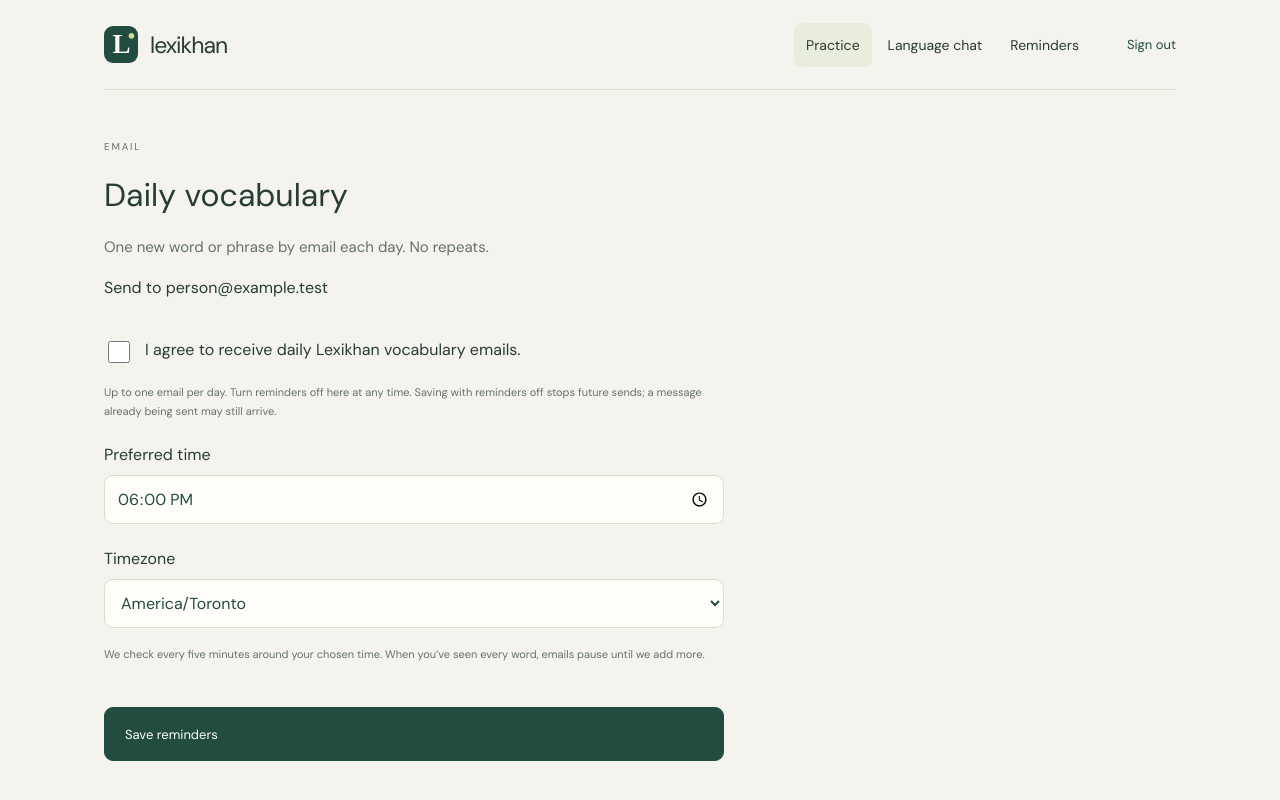
Test: saves explicit consent and can turn reminders off
Click the checkbox at (119, 352), box [108,341,130,363]
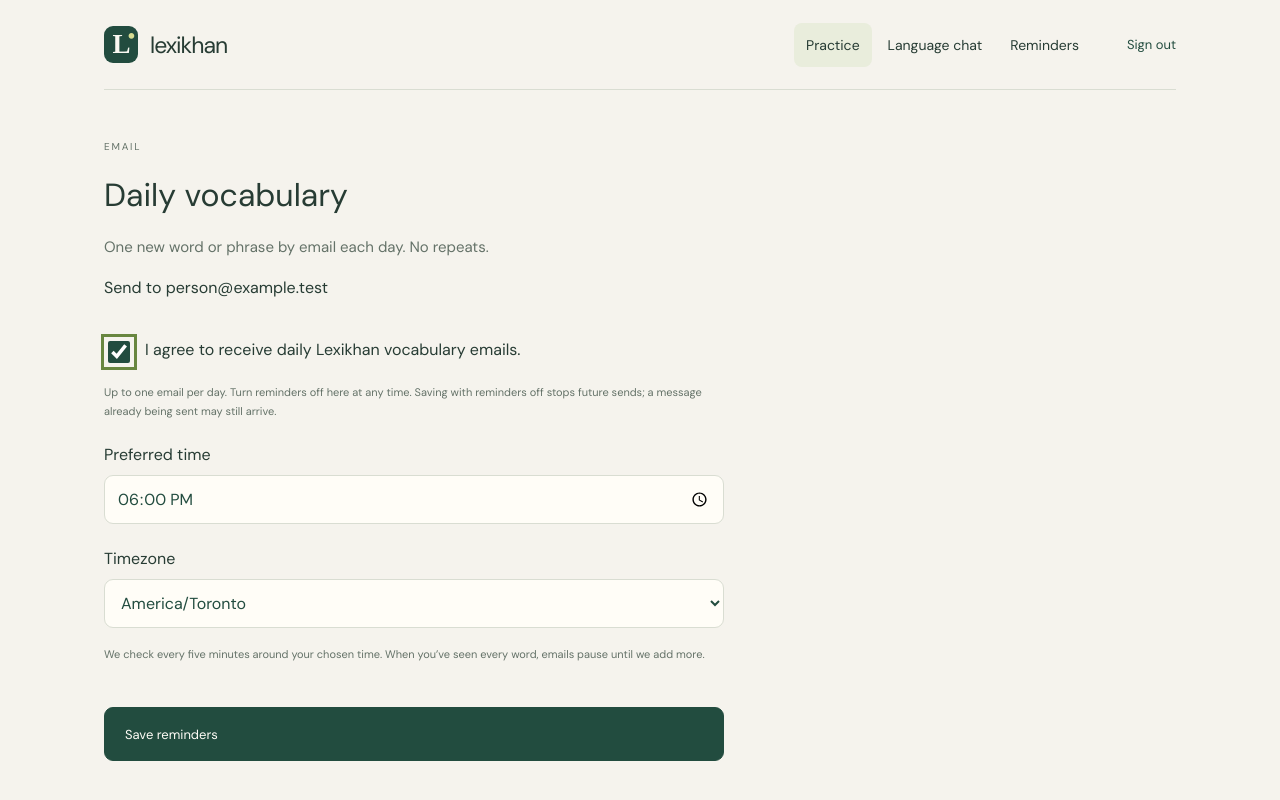
Click the button "Save reminders" at (171, 734), box [104,707,724,761]
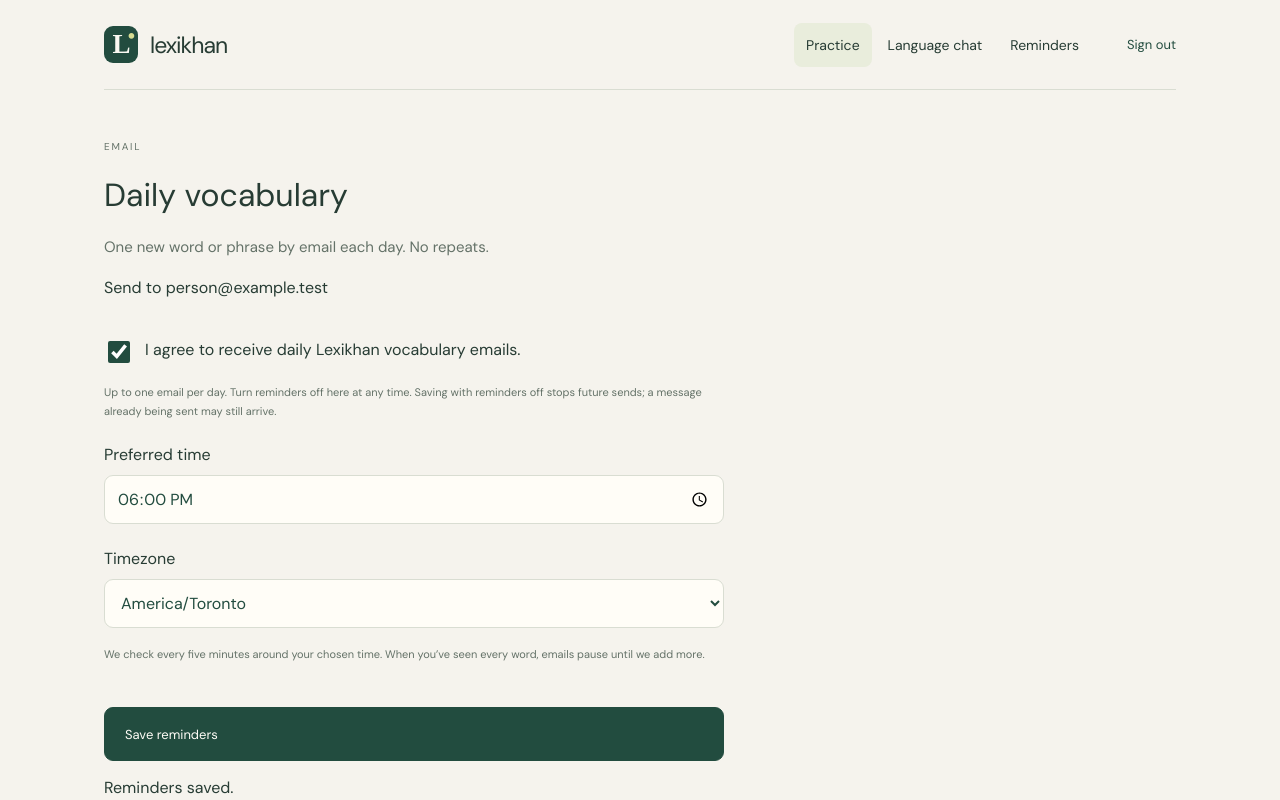
Result: the text "Reminders saved." is shown at [104,777,234,798]
Click the checkbox at (119, 352), box [108,341,130,363]
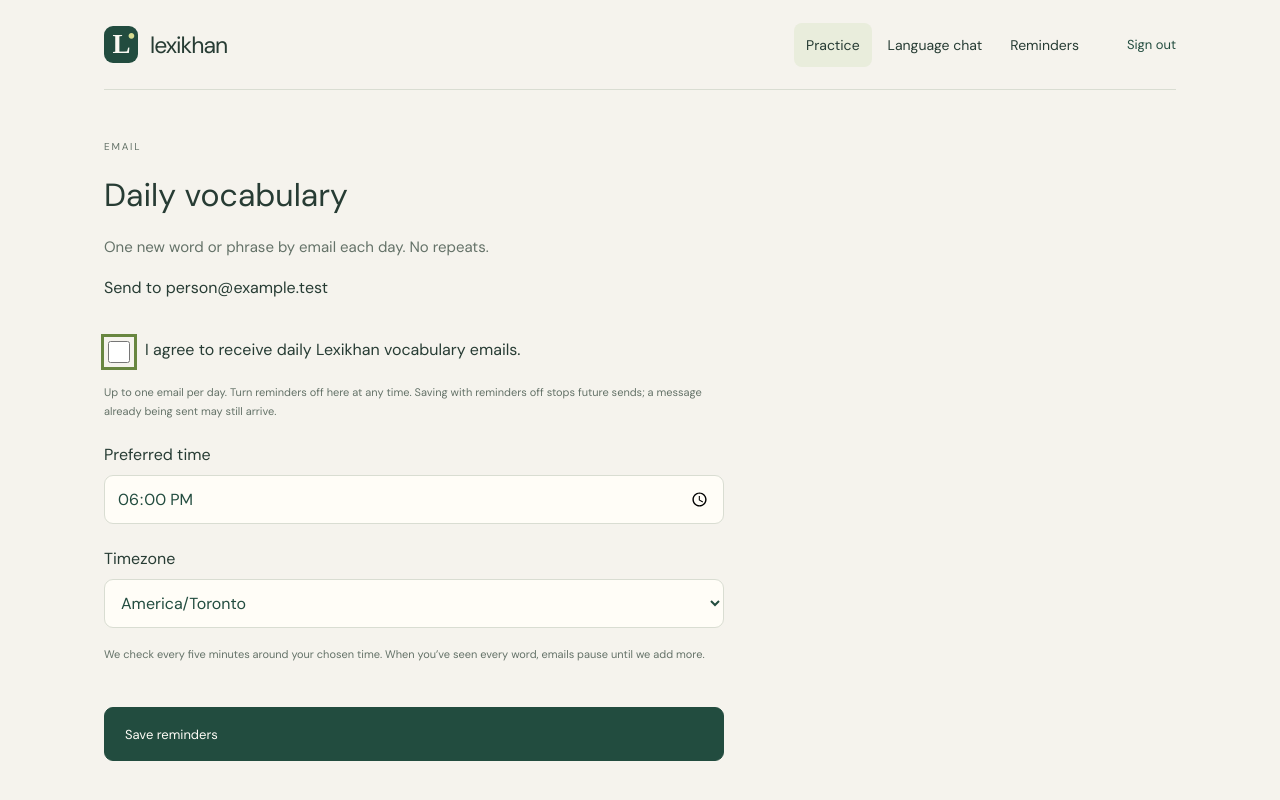
Click the button "Save reminders" at (171, 734), box [104,707,724,761]
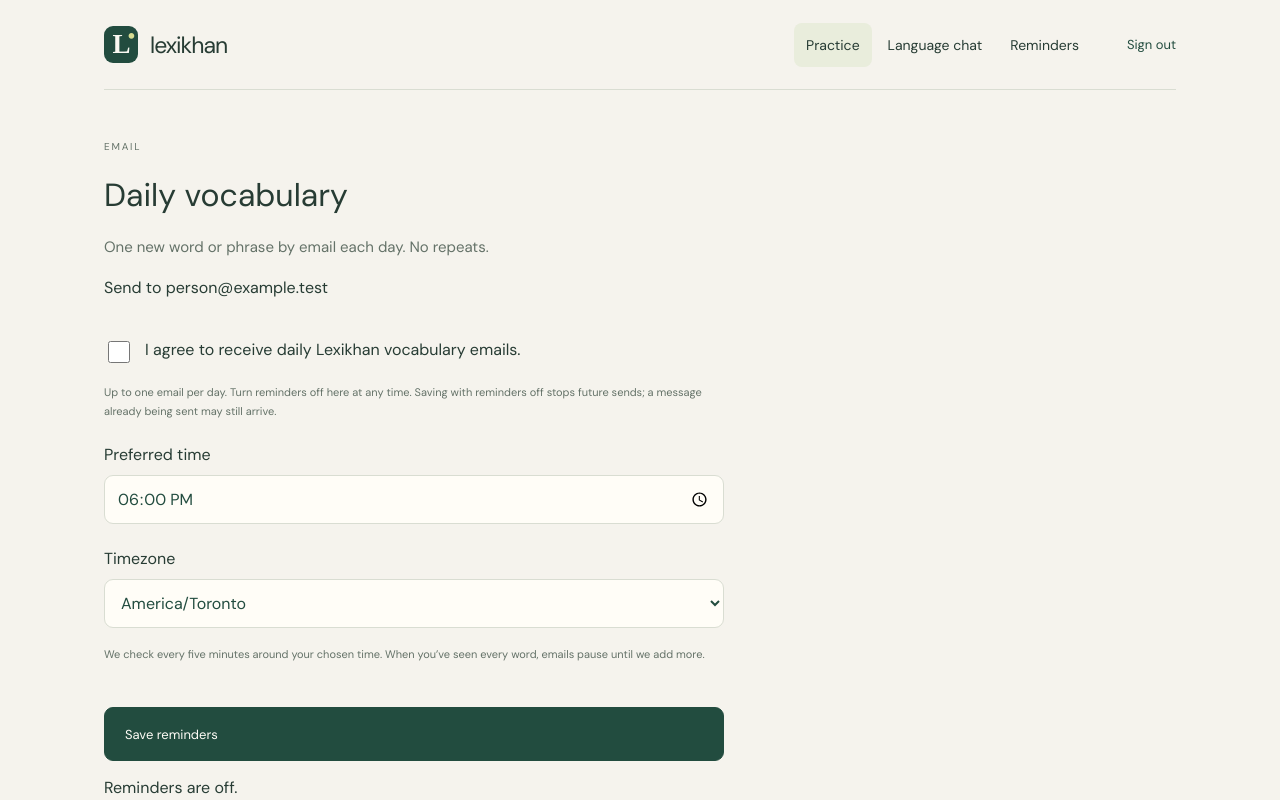
Result: the text "Reminders are off." is shown at [104,777,238,798]
